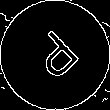P_SE: (24, 24, 86, 86)
